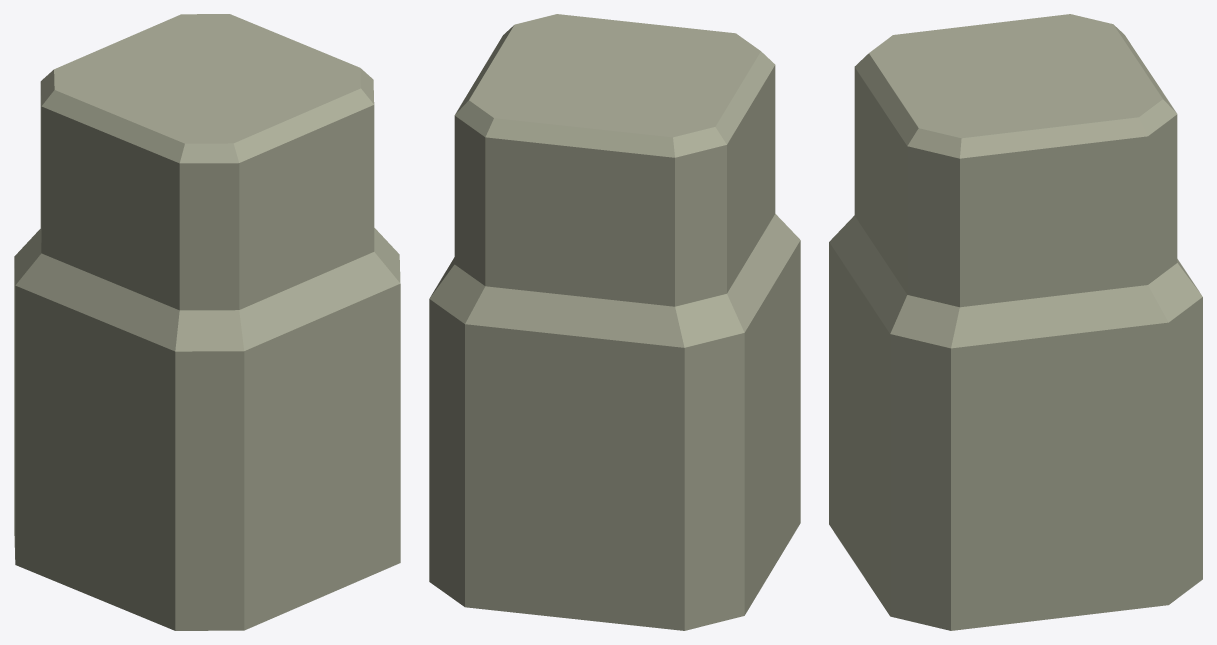
3 views of the same model, side by side, from view 1: azimuth 30°, elevation 25°; view 2: azimuth 150°, elevation 25°; view 3: azimuth 270°, elevation 25° (orthographic).
Parts seen in each view (by area): view 1: QZ_01; view 2: QZ_01; view 3: QZ_01.
Part boxes in pixels (left/top/right/bottom): QZ_01: left=14, top=14, right=400, bottom=630; QZ_01: left=429, top=14, right=800, bottom=630; QZ_01: left=829, top=14, right=1202, bottom=630.
Size of the model in its own units: 0.4874 by 0.6847 by 0.4874.
